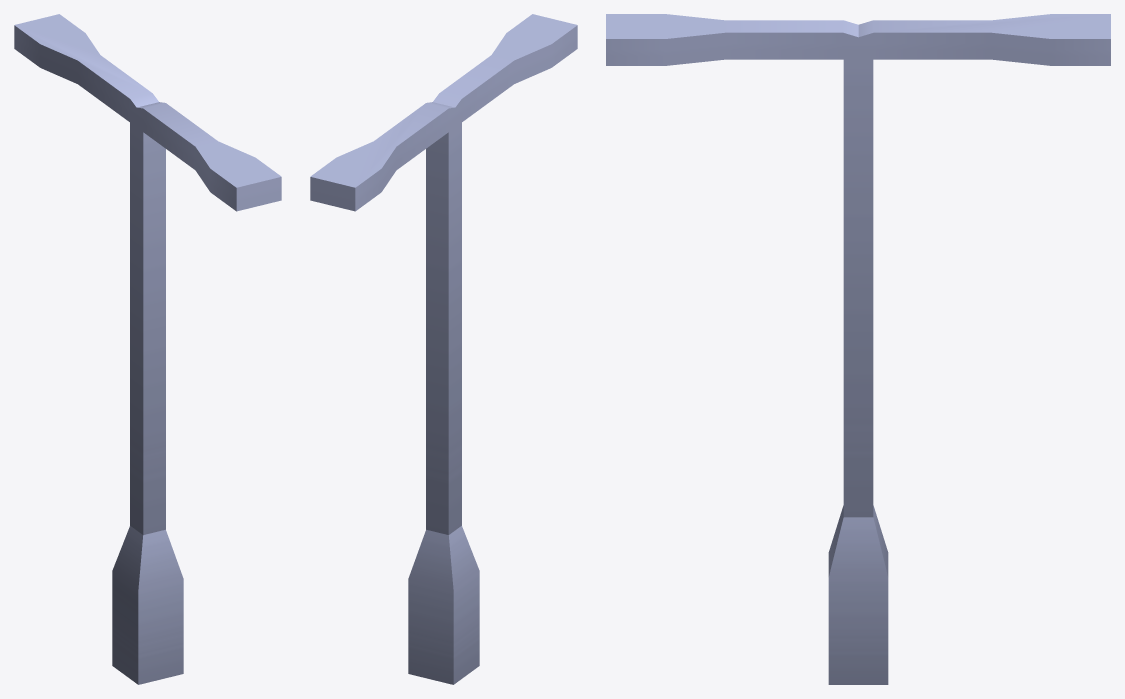
Rendered from light-square-double.fbx.
3 views of the same model, side by side, from view 1: azimuth 30°, elevation 25°; view 2: azimuth 150°, elevation 25°; view 3: azimuth 270°, elevation 25° (orthographic). The views are drawn at different scales.
Parts seen in each view (by area): view 1: light-square-double; view 2: light-square-double; view 3: light-square-double.
Boxes of the visible parts, x1,y1,x2,y2 form: light-square-double: (14, 14, 281, 684); light-square-double: (310, 14, 577, 684); light-square-double: (606, 14, 1110, 684).
Size of the model in its own units: 5 by 60 by 42.5.
